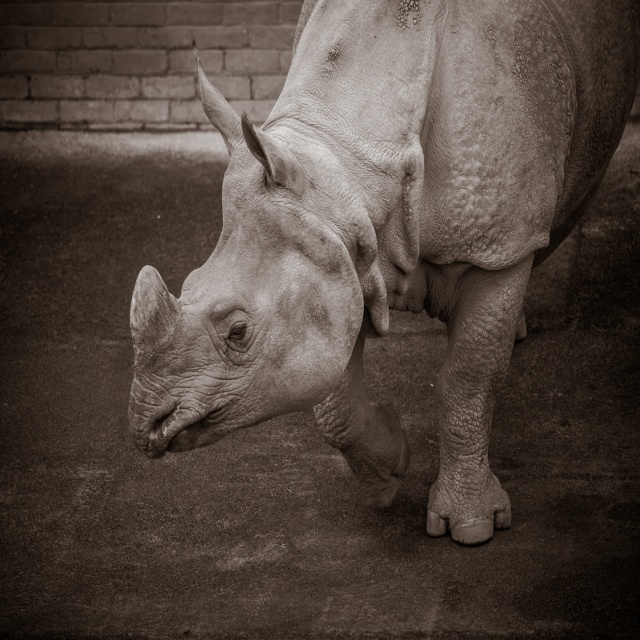Rhinoceros: (122, 0, 640, 549)
